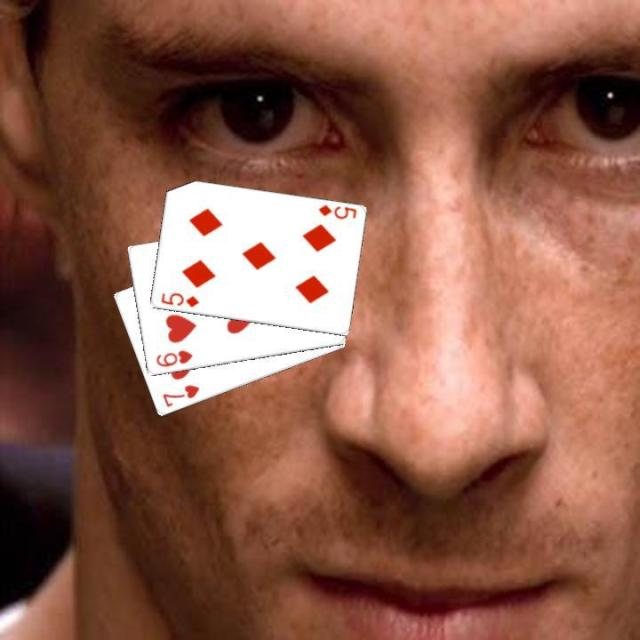5D: (156, 289, 200, 309), (314, 201, 358, 221)
6H: (152, 347, 194, 369)
7H: (158, 381, 201, 409)
